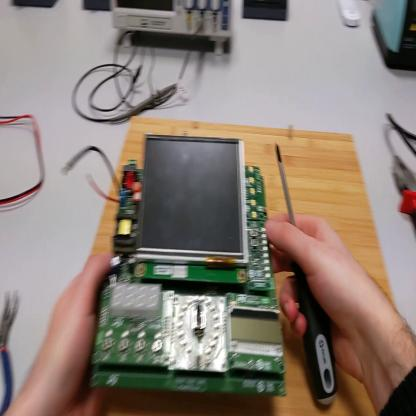hand: (267, 208, 371, 382), (31, 253, 119, 416)
low voltage board: (64, 133, 287, 402)
oscilloscope: (112, 3, 234, 55)
oscilloscope probe tip: (113, 83, 178, 124)
pliers: (2, 289, 18, 415), (394, 154, 416, 237)
screwdriver-: (279, 147, 338, 407)
socket: (11, 2, 58, 13), (83, 1, 112, 14)
welder station: (373, 4, 416, 71)
working area: (69, 116, 394, 414)
